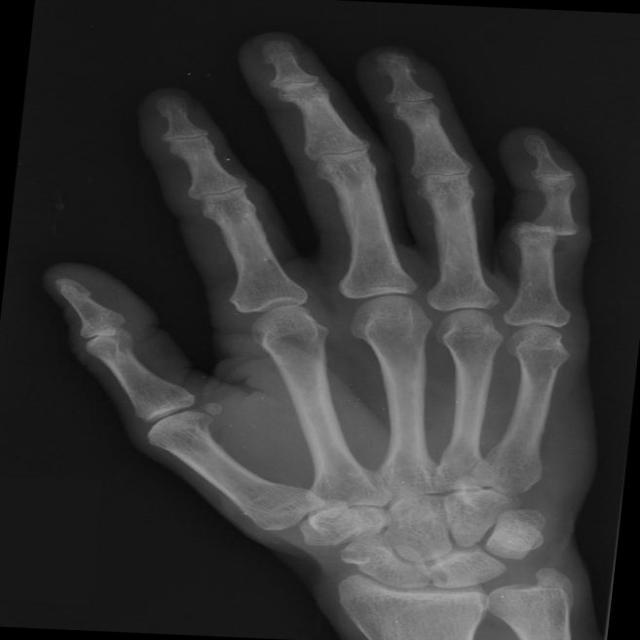Transverse Displaced: (498, 196, 612, 268)
